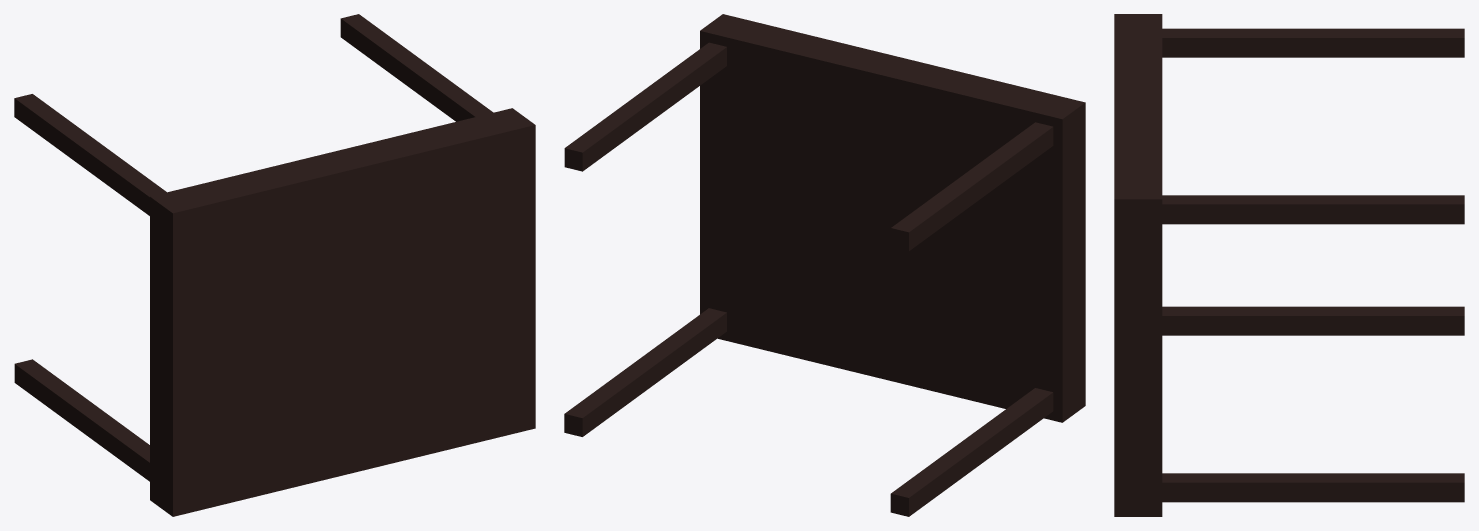
File: table.dae
3 renders of one model, left to right at view 1: azimuth 30°, elevation 25°; view 2: azimuth 150°, elevation 25°; view 3: azimuth 270°, elevation 25°, orthographic. The views are drawn at different scales.
Parts seen in each view (by area): view 1: node; view 2: node; view 3: node.
Boxes of the visible parts, x1,y1,x2,y2 form: node: (14,14,535,516); node: (564,14,1085,516); node: (1114,14,1464,516).
Size of the model in its own units: 1 by 0.8 by 0.8.
Materials: 1 (1 with a texture image).
